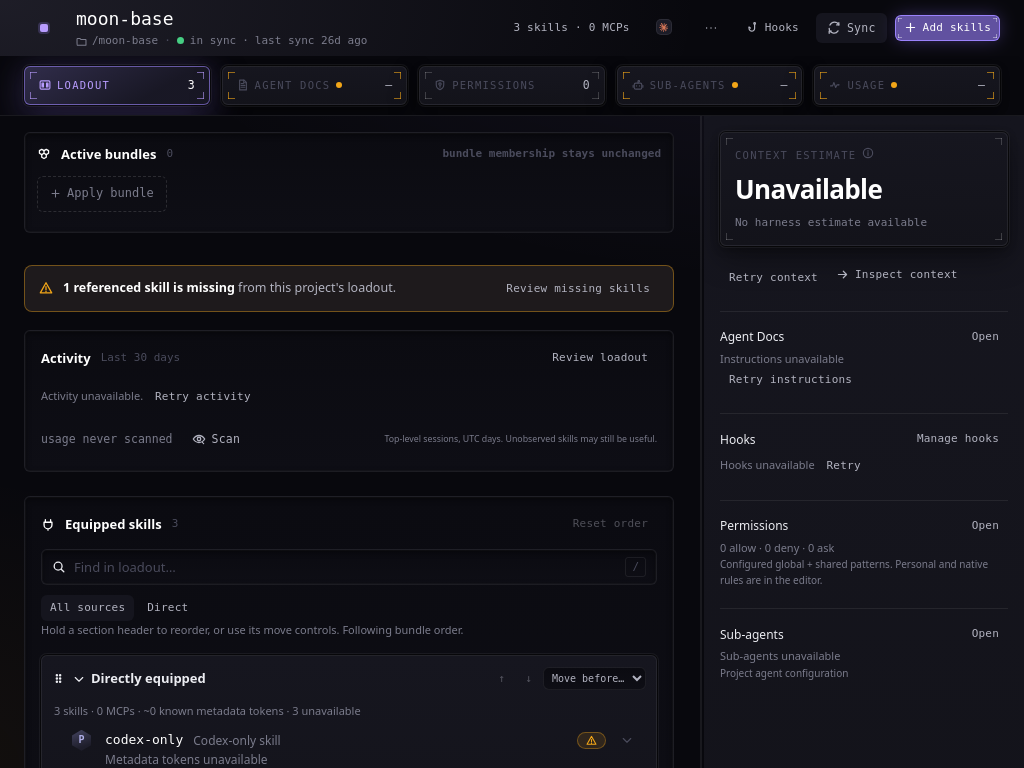
Test case: Loadout missing-refs badge + banner (PR3 unit C) › cancels a selection without equipping
Click the button "Review missing skills": (578, 288) 497,276 -> 659,301
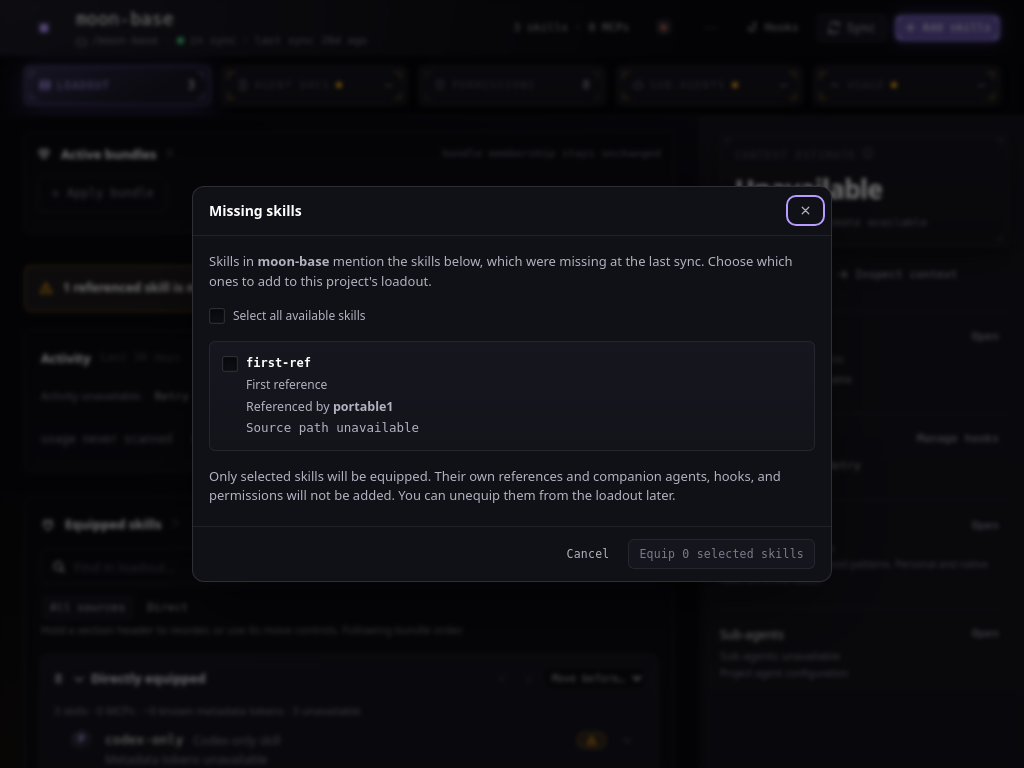
Click the checkbox named "Select first-ref": (321, 396) 222,356 -> 419,435
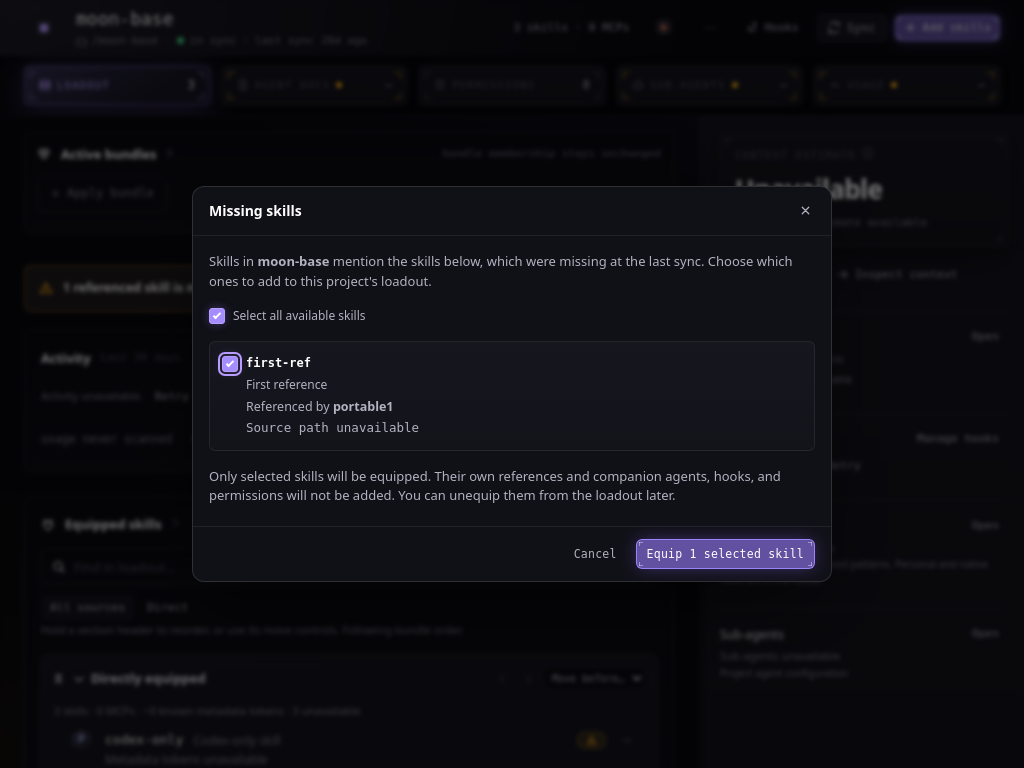
Click the button "Cancel": (595, 554) 563,539 -> 628,569
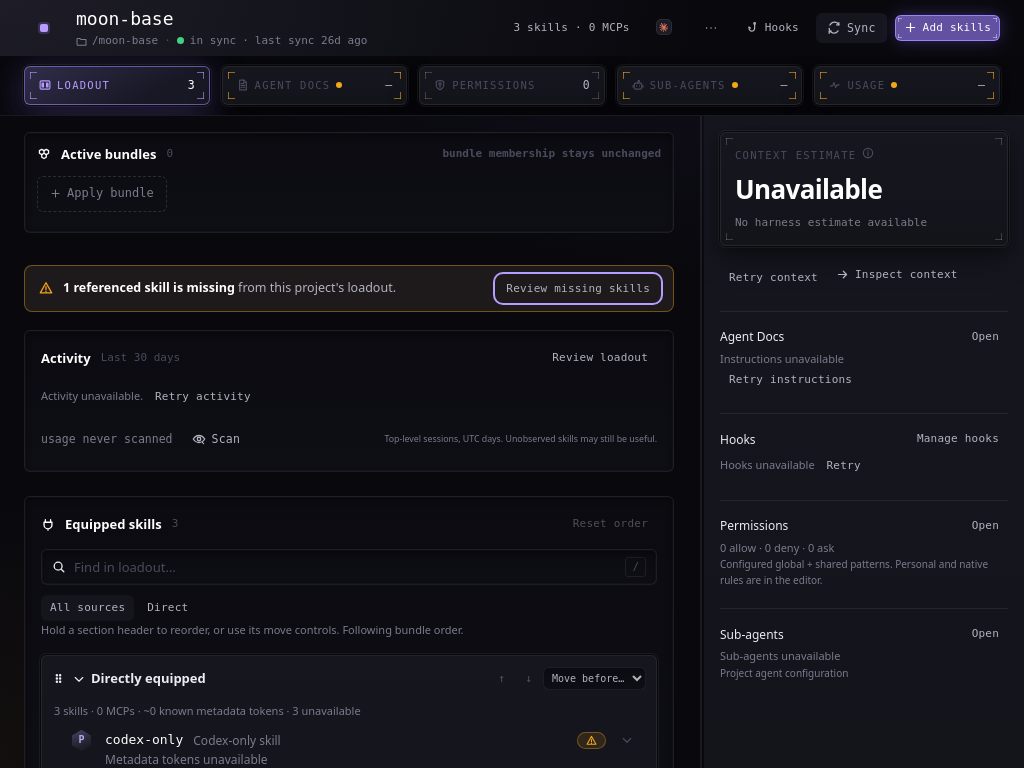
Now the dialog is gone
Click the button "Review missing skills": (578, 288) 497,276 -> 659,301
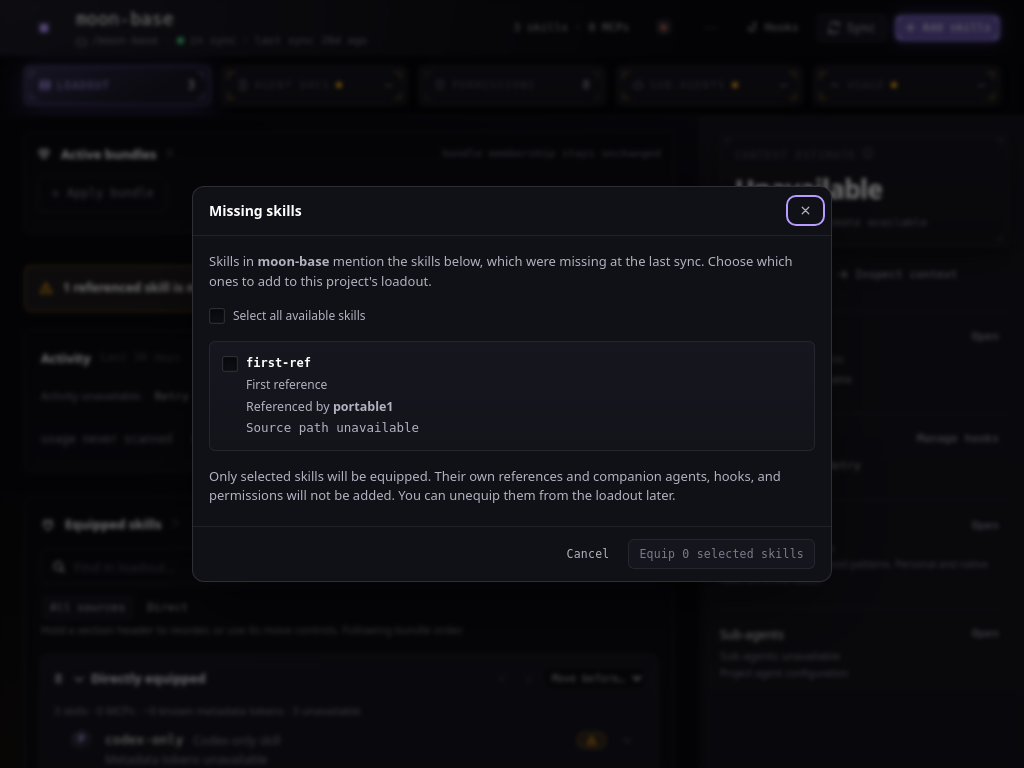
Now the checkbox named "Select first-ref" is not checked, box 222,356 -> 419,435
